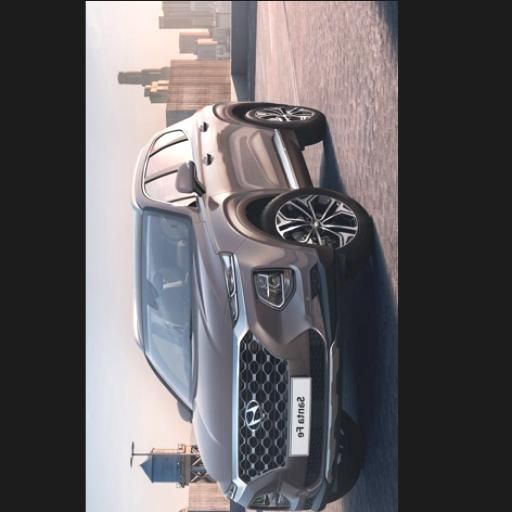suv: (130, 101, 372, 510)
